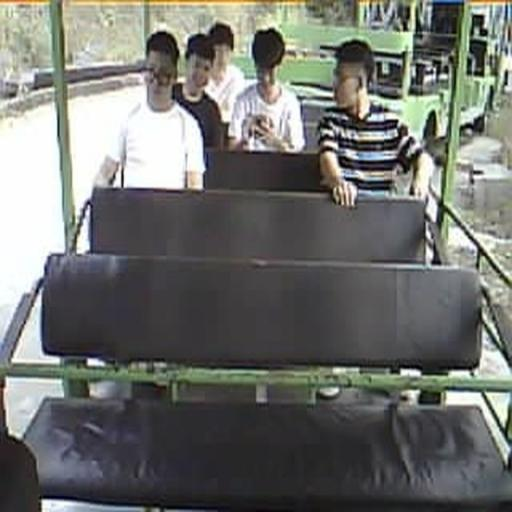persona: (316, 38, 434, 209), (91, 30, 207, 192), (227, 26, 307, 154), (172, 33, 226, 156), (204, 22, 246, 123)
